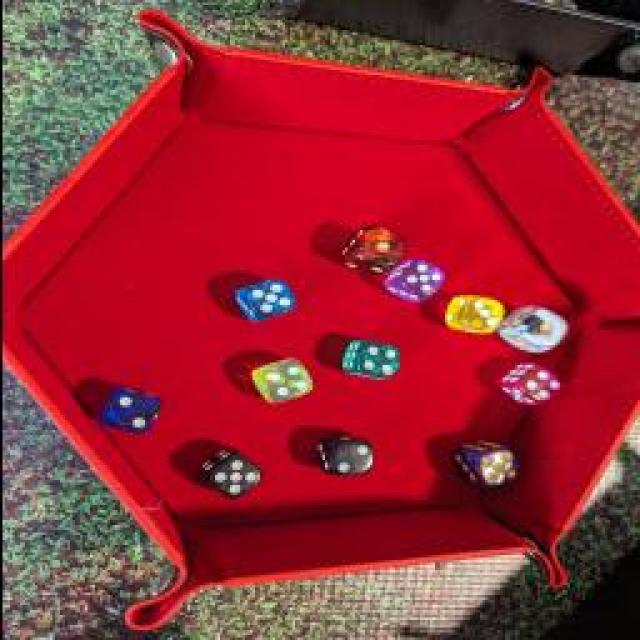dice_1: (332, 225, 410, 273), (502, 306, 566, 356)
dice_2: (98, 387, 168, 435), (315, 435, 380, 480)
dice_3: (438, 292, 504, 336)
dice_4: (247, 358, 315, 404), (496, 362, 564, 406), (341, 340, 401, 382)
dice_5: (195, 449, 267, 501), (228, 277, 302, 325), (455, 444, 520, 491), (383, 256, 445, 302)
